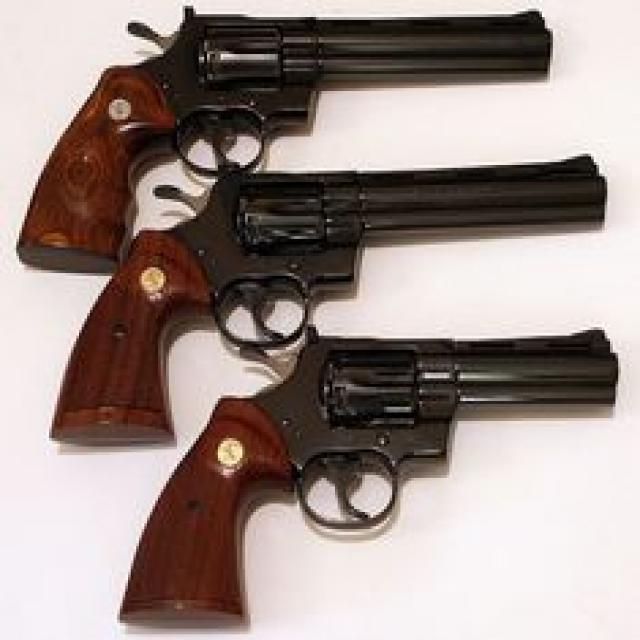revolver: (2, 0, 564, 268)
